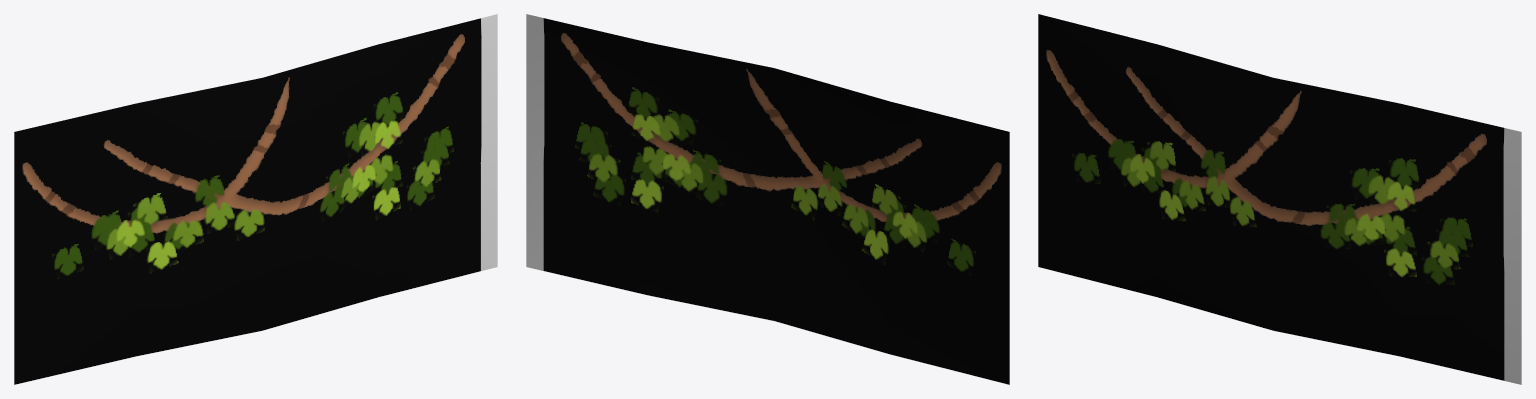
File: sp_veg_ivy_10.fbx
The picture shows the model from 3 angles, left to right: view 1: azimuth 30°, elevation 25°; view 2: azimuth 150°, elevation 25°; view 3: azimuth 330°, elevation 25°; orthographic projection.
Visible parts, largest first — view 1: veg_ivy_10; view 2: veg_ivy_10; view 3: veg_ivy_10.
Boxes of the visible parts, bbox=[...] form: veg_ivy_10: bbox=[14, 14, 497, 384]; veg_ivy_10: bbox=[526, 14, 1009, 384]; veg_ivy_10: bbox=[1038, 14, 1521, 384].
Size of the model in its own units: 100 by 50 by 6.41.
